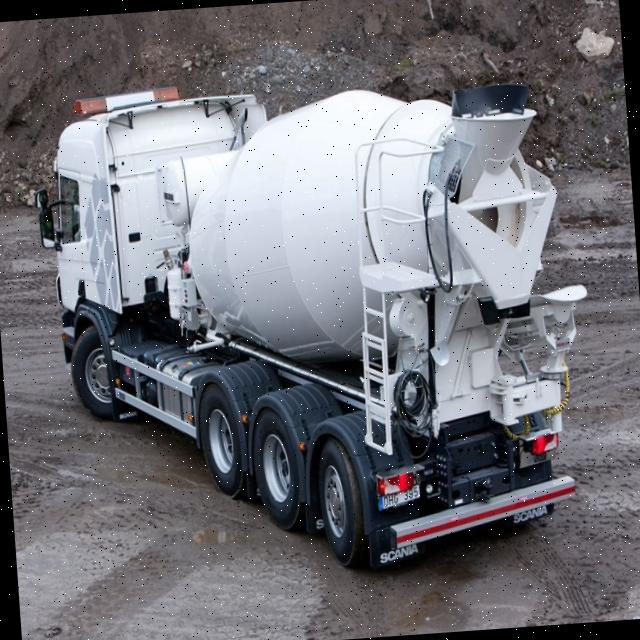Mixer Truck: (43, 57, 604, 588)
